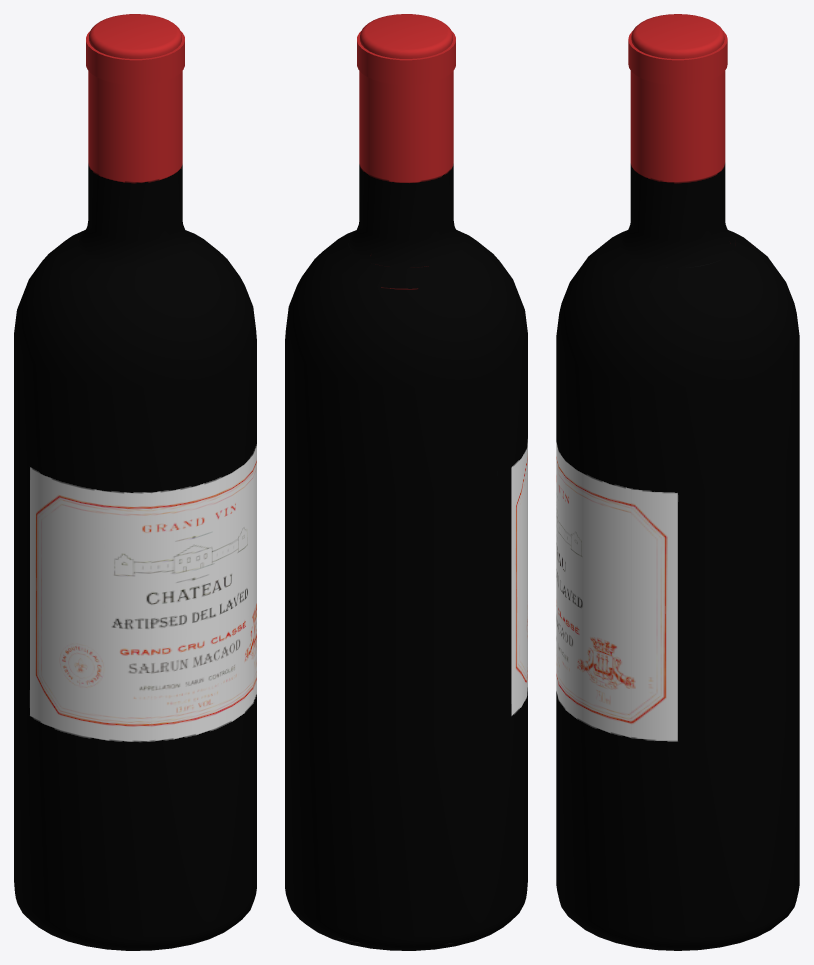
3 renders of one model, left to right at view 1: azimuth 30°, elevation 25°; view 2: azimuth 150°, elevation 25°; view 3: azimuth 270°, elevation 25°, orthographic.
Visible parts, largest first — view 1: BOUTEILLE; view 2: BOUTEILLE; view 3: BOUTEILLE.
Boxes of the visible parts, x1,y1,x2,y2 form: BOUTEILLE: (14,14,256,950); BOUTEILLE: (285,14,527,950); BOUTEILLE: (556,14,799,950).
Size of the model in its own units: 96.44 by 382 by 96.44.
Materials: 1 (1 with a texture image).
